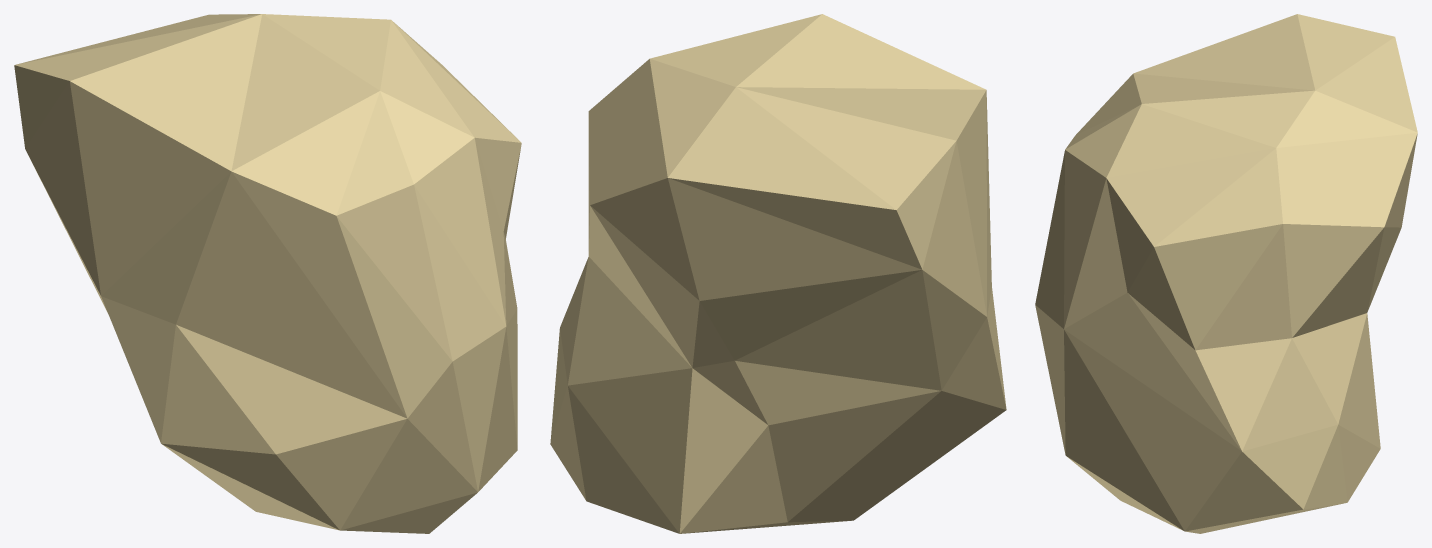
File: Rock (41).fbx
3 renders of one model, left to right at view 1: azimuth 30°, elevation 25°; view 2: azimuth 150°, elevation 25°; view 3: azimuth 270°, elevation 25°, orthographic. The views are drawn at different scales.
Visible parts, largest first — view 1: Asteroid40; view 2: Asteroid40; view 3: Asteroid40.
Part boxes in pixels (box(x1,y1,x2,y2)): Asteroid40: box(14, 14, 521, 533); Asteroid40: box(550, 14, 1006, 533); Asteroid40: box(1035, 14, 1417, 533).
Size of the model in its own units: 157 by 170 by 143.
